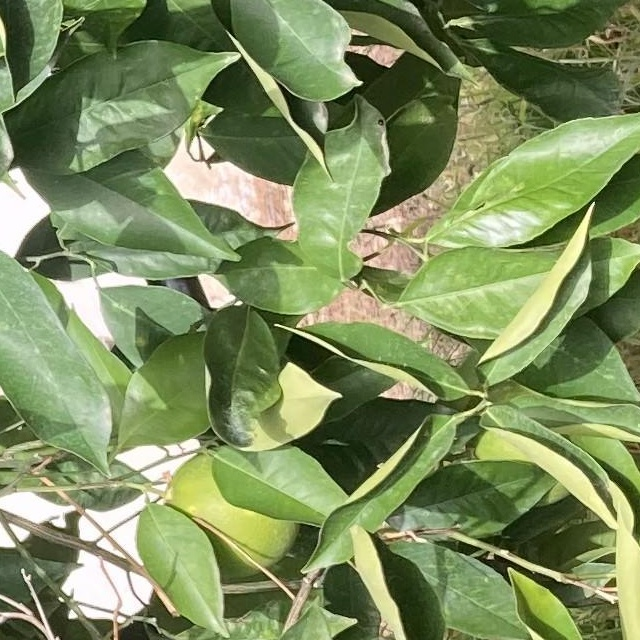orange: (149, 443, 315, 579)
